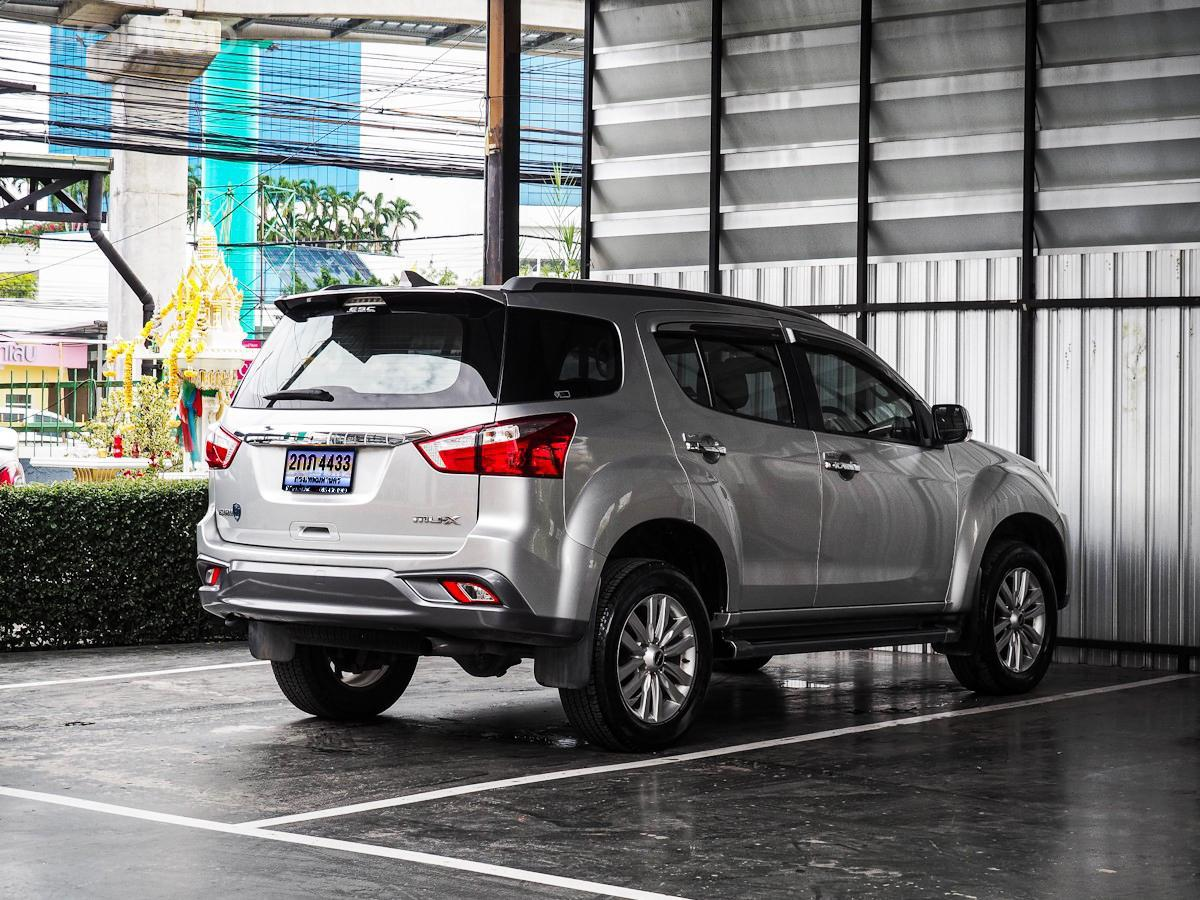license-plate: (275, 436, 359, 501)
